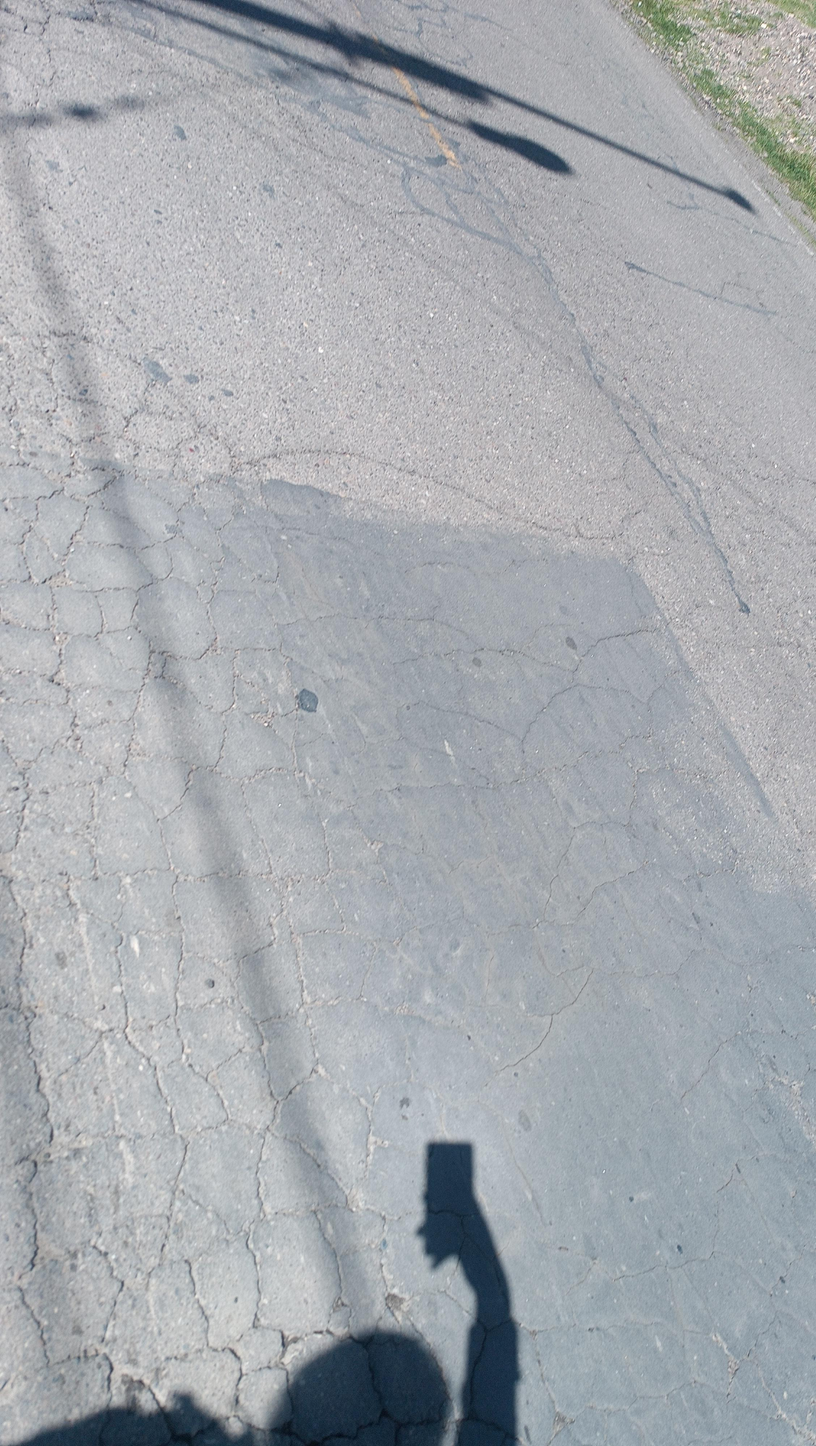GRIETA: (256, 449, 622, 542)
PIEL DE COCODRILO: (0, 329, 816, 1446), (258, 50, 553, 276), (587, 314, 801, 490), (0, 0, 62, 124)
